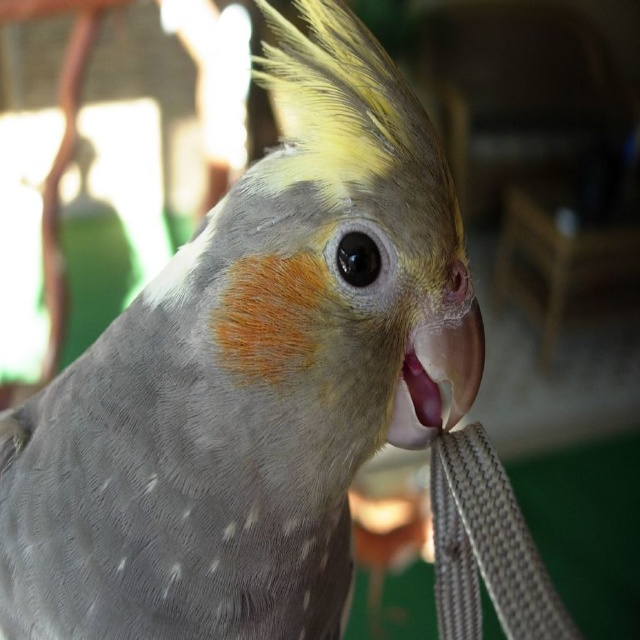Parrot: (0, 0, 486, 640)
